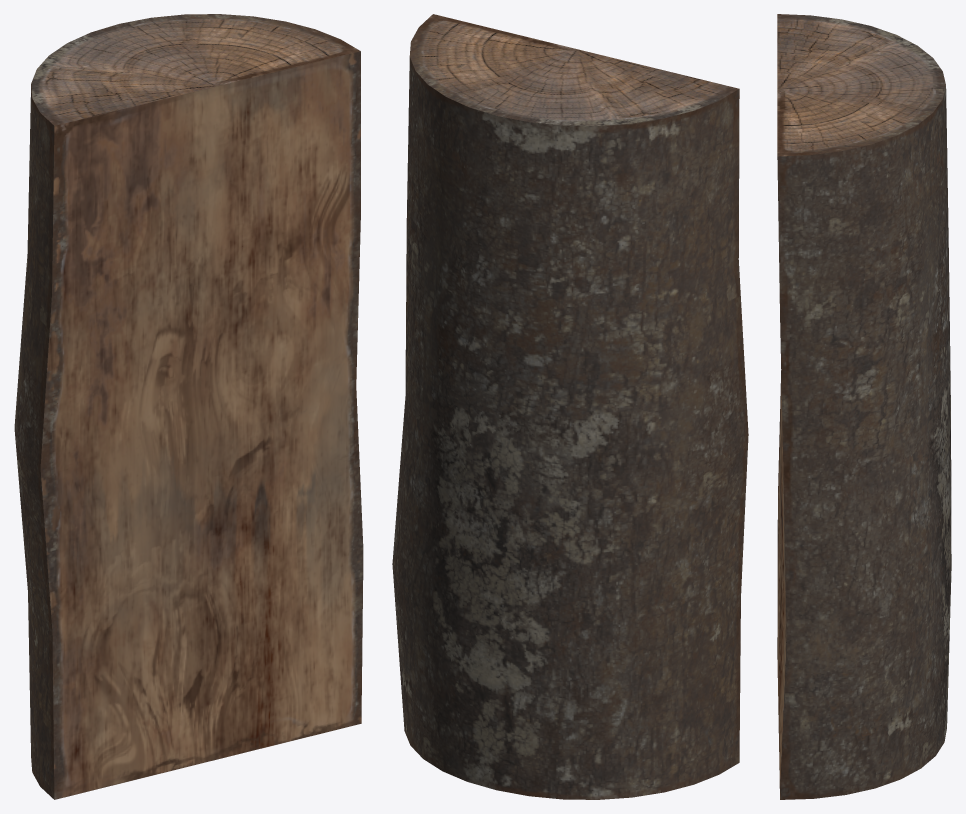
File: SM_WoodLogs_1.fbx
3 views of the same model, side by side, from view 1: azimuth 30°, elevation 25°; view 2: azimuth 150°, elevation 25°; view 3: azimuth 270°, elevation 25° (orthographic). The views are drawn at different scales.
Parts seen in each view (by area): view 1: SM_WoodLogs_1_LOD0; view 2: SM_WoodLogs_1_LOD0; view 3: SM_WoodLogs_1_LOD0.
Boxes of the visible parts, x1,y1,x2,y2 form: SM_WoodLogs_1_LOD0: (14,14,363,799); SM_WoodLogs_1_LOD0: (392,14,748,799); SM_WoodLogs_1_LOD0: (777,14,951,799).
Bounding box in the file's own units: 24.99 × 12.14 × 49.44.
